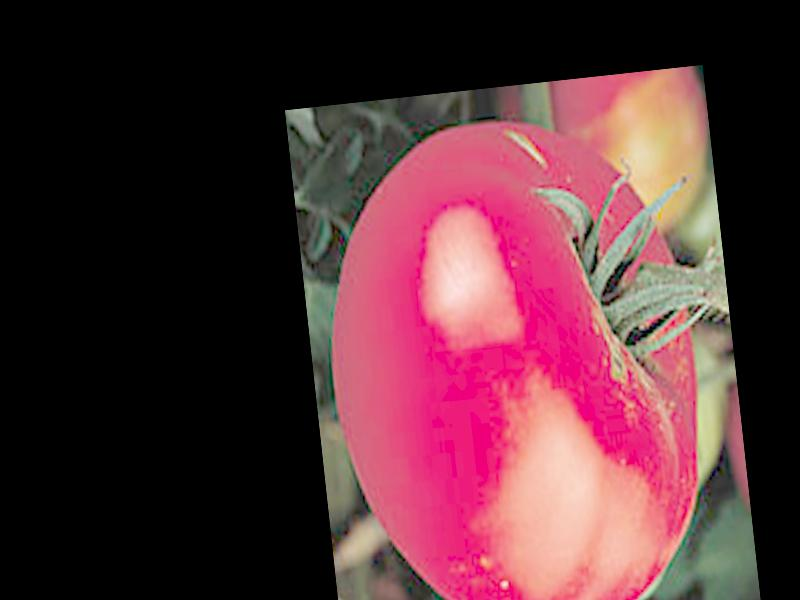Tomato: (307, 107, 720, 600)
